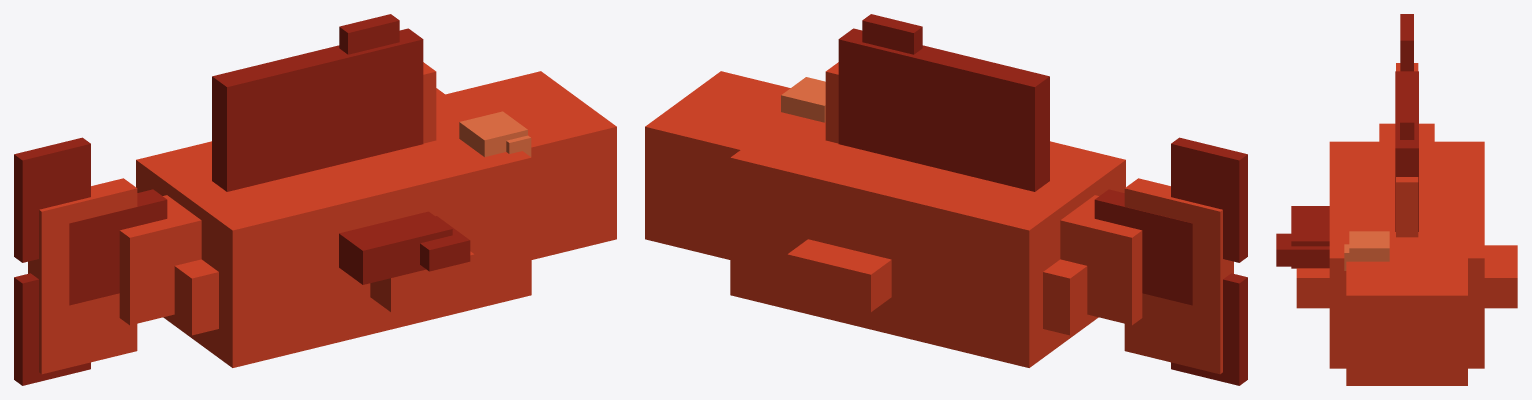
Rendered from fish_magma_ember.glb.
The picture shows the model from 3 angles, left to right: view 1: azimuth 30°, elevation 25°; view 2: azimuth 150°, elevation 25°; view 3: azimuth 270°, elevation 25°; orthographic projection. The views are drawn at different scales.
Parts seen in each view (by area): view 1: FishArt_body, FishArt_dorsal, FishArt_tail, FishArt_pectoral, FishArt_eye; view 2: FishArt_body, FishArt_dorsal, FishArt_tail, FishArt_eye; view 3: FishArt_body, FishArt_pectoral, FishArt_dorsal, FishArt_eye, FishArt_tail.
Part boxes in pixels (x1,y1,x2,y2): FishArt_body: [28, 62, 616, 374]; FishArt_dorsal: [212, 14, 423, 191]; FishArt_tail: [14, 137, 167, 385]; FishArt_pectoral: [339, 211, 470, 284]; FishArt_eye: [459, 111, 531, 156]; FishArt_body: [645, 62, 1233, 374]; FishArt_dorsal: [838, 14, 1049, 191]; FishArt_tail: [1094, 137, 1247, 385]; FishArt_eye: [781, 77, 825, 122]; FishArt_body: [1296, 63, 1517, 385]; FishArt_pectoral: [1276, 206, 1329, 268]; FishArt_dorsal: [1395, 71, 1418, 231]; FishArt_eye: [1344, 231, 1389, 270]; FishArt_tail: [1400, 14, 1413, 71].
Size of the model in its own units: 0.3091 by 0.1442 by 0.1439.
